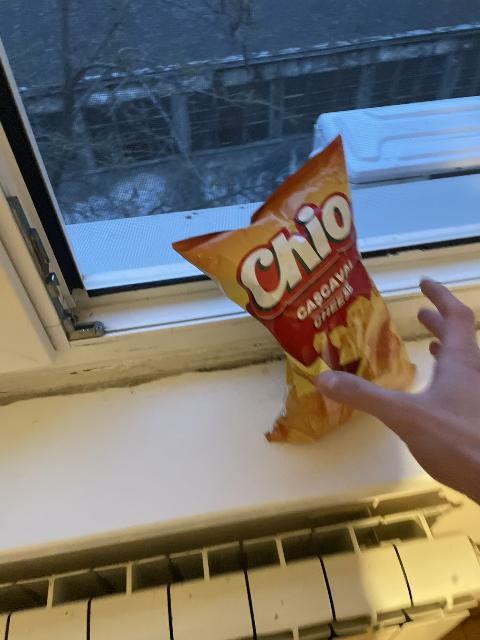Chio Cascaval 125g: (174, 138, 420, 440)
